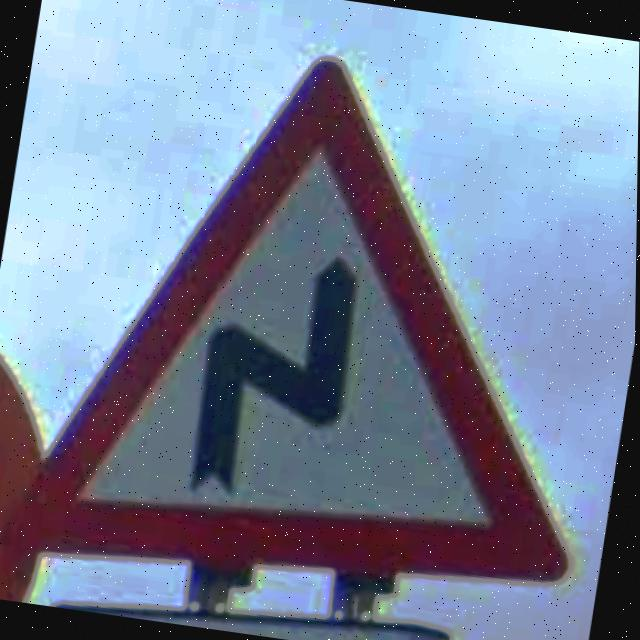doublebendright: (8, 59, 572, 585)
